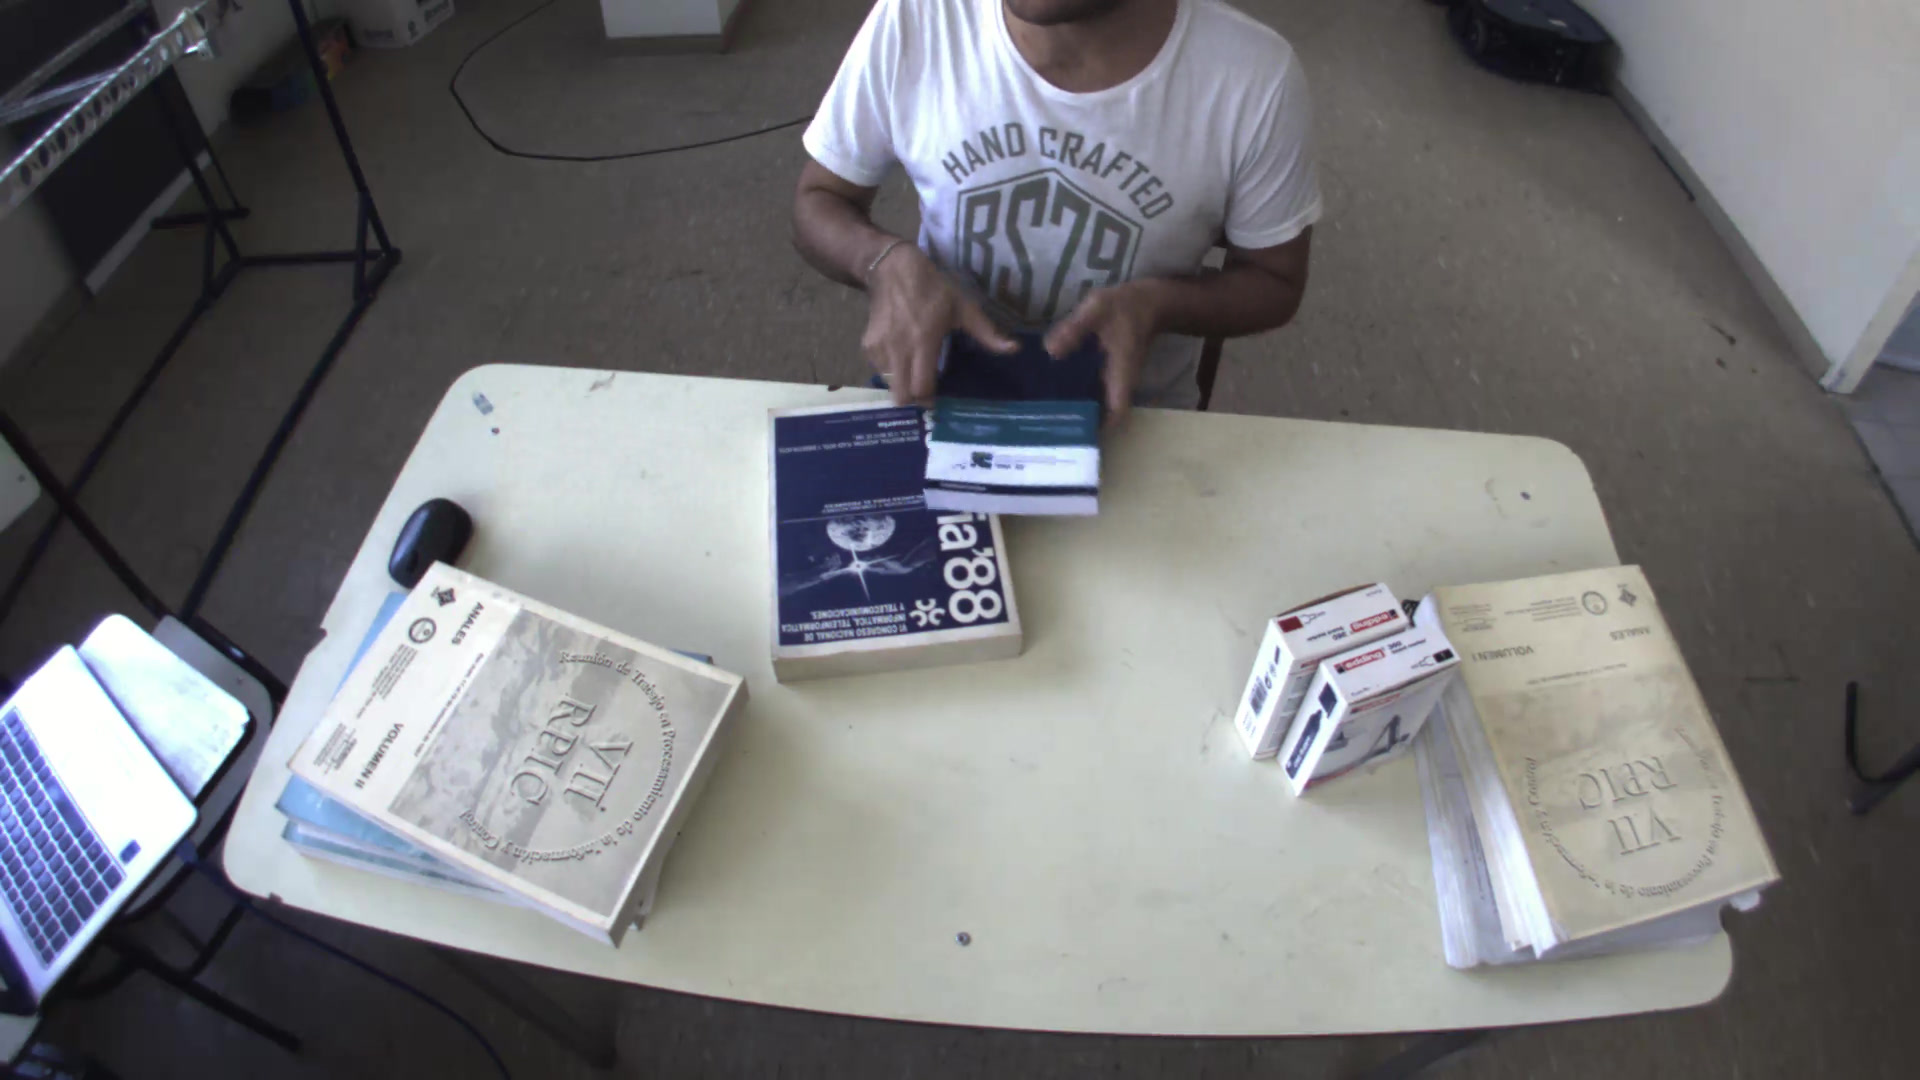hand: (848, 240, 1017, 402), (1044, 264, 1171, 411)
